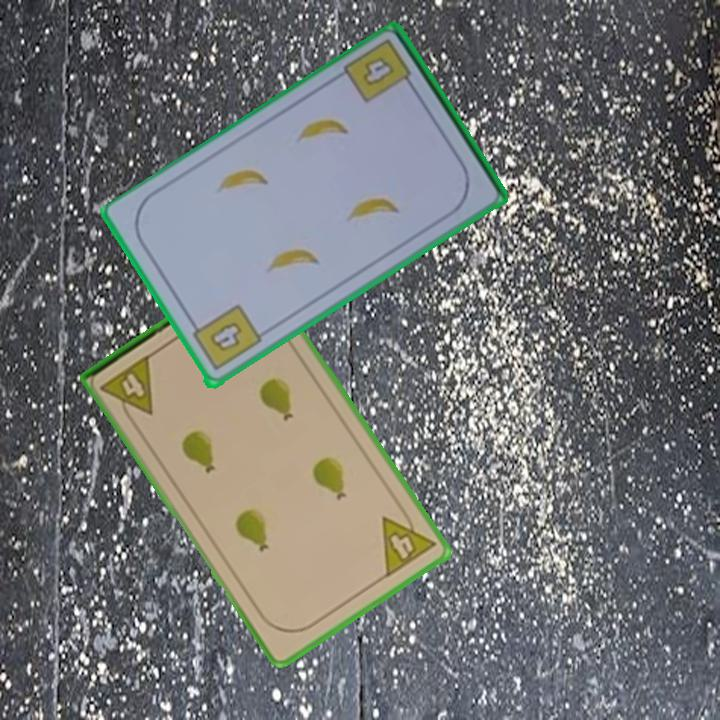4b: (186, 301, 264, 374), (358, 54, 398, 89)
4p: (378, 502, 439, 581), (96, 351, 157, 428)
